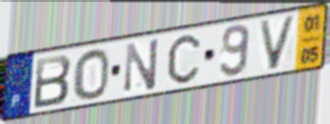9: (218, 23, 251, 79)
B: (32, 52, 74, 111)
C: (166, 33, 202, 86)
N: (123, 36, 161, 94)
O: (72, 47, 111, 101)
V: (257, 14, 299, 72)
